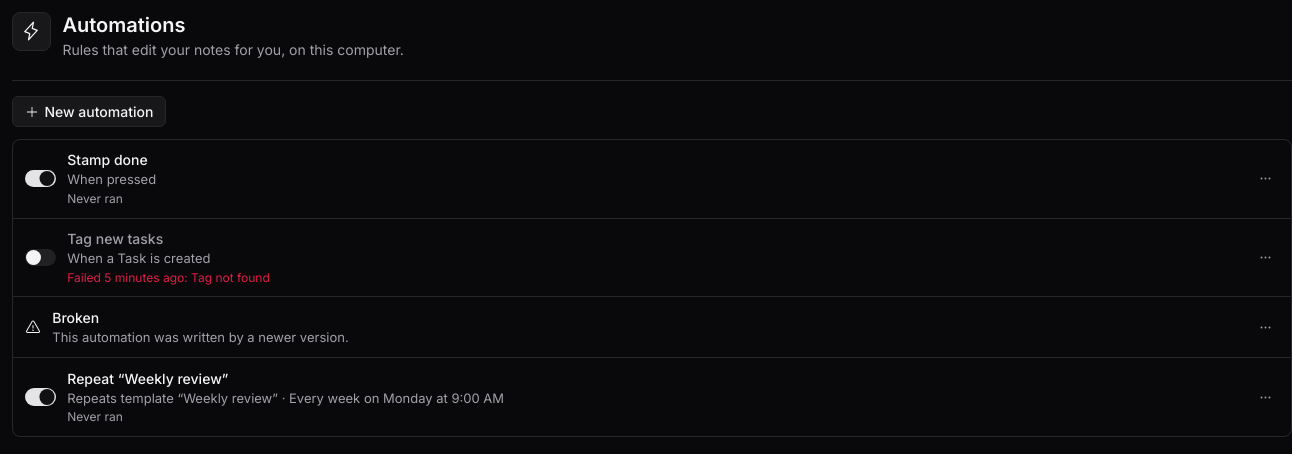
AutomationsSection › the run log lists runs newest first and follows run events
What coordinates should you click on to do the following:
click the button named "Automation menu" in the row of "Tag new tasks"
I would click on:
 (1266, 257)
Its box is [1252,244,1279,271].
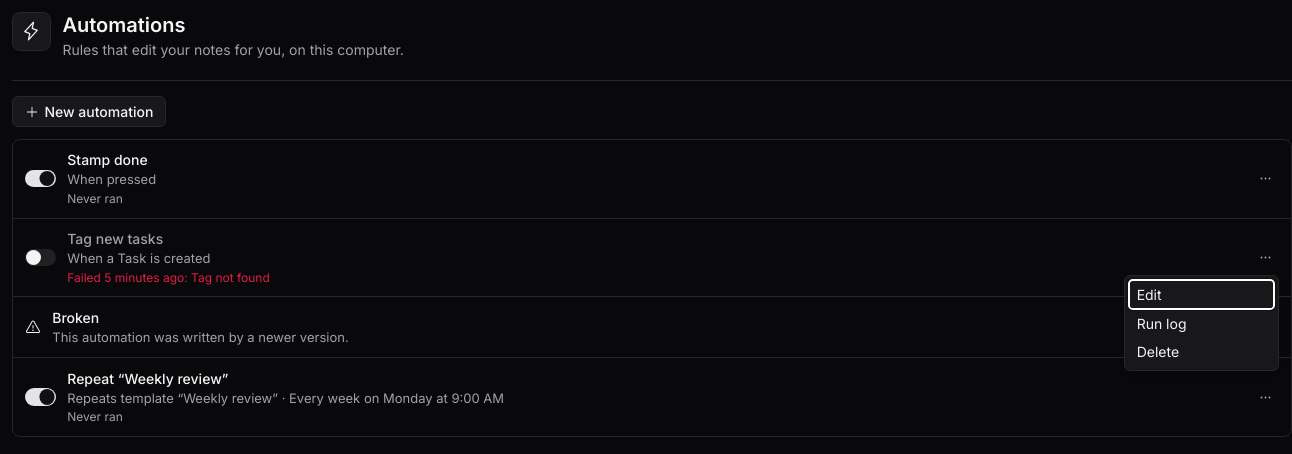
What coordinates should you click on to do the following:
click the menu item "Run log"
I would click on:
 (1202, 323)
Its box is [1129,309,1274,337].
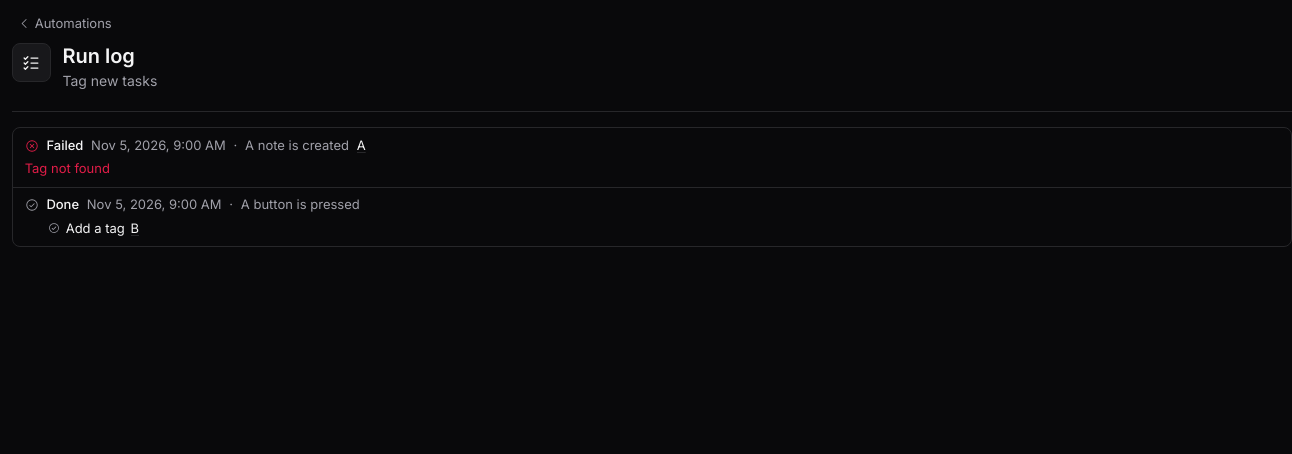
Expected: the list item with aria-label "Nov 5, 2026, 9:00 AM" shows "Failed", [46,137,83,153]
Expected: the list item with aria-label "Nov 5, 2026, 9:00 AM" shows "Tag not found", [25,160,110,176]
Expected: the list item "Done Nov 5, 2026, 9:00 AM · A button is pressed Add a tag B" is shown, [25,196,360,238]
What coordinates should you click on to do the following:
click the button "Automations"
I would click on:
 (65, 24)
Its box is [12,12,118,35].
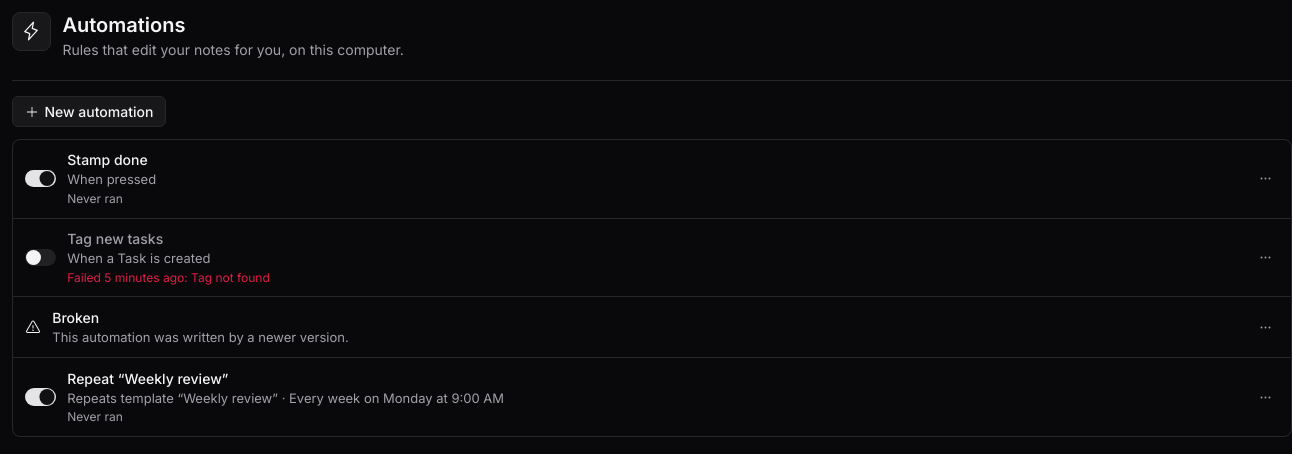
Expected: the list item "Stamp done" is shown, [13,140,1291,218]
